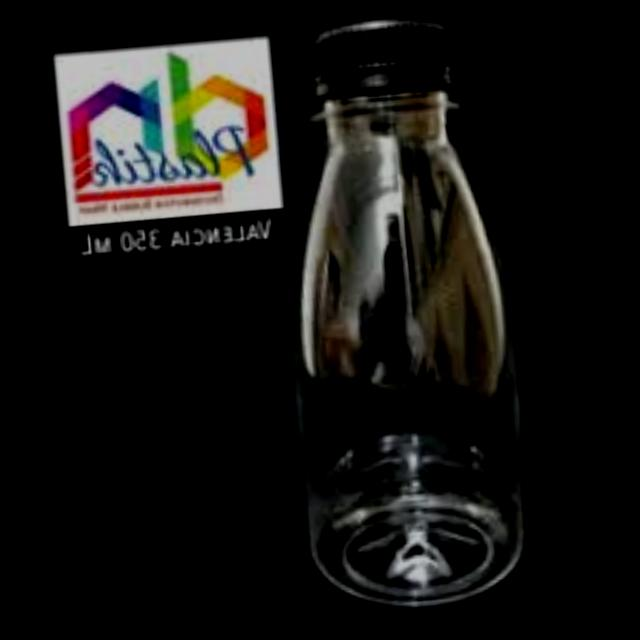trash: (244, 6, 543, 617)
